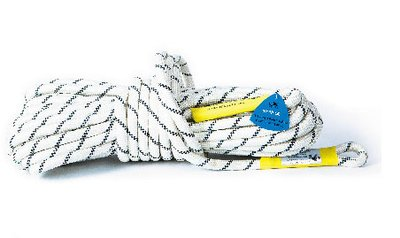9/可回收垃圾/绳子: (7, 50, 369, 177)
